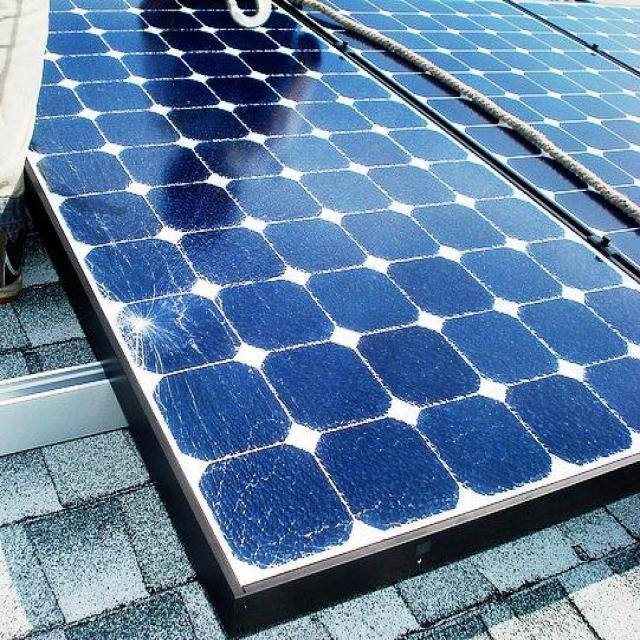faulty: (29, 0, 637, 581)
